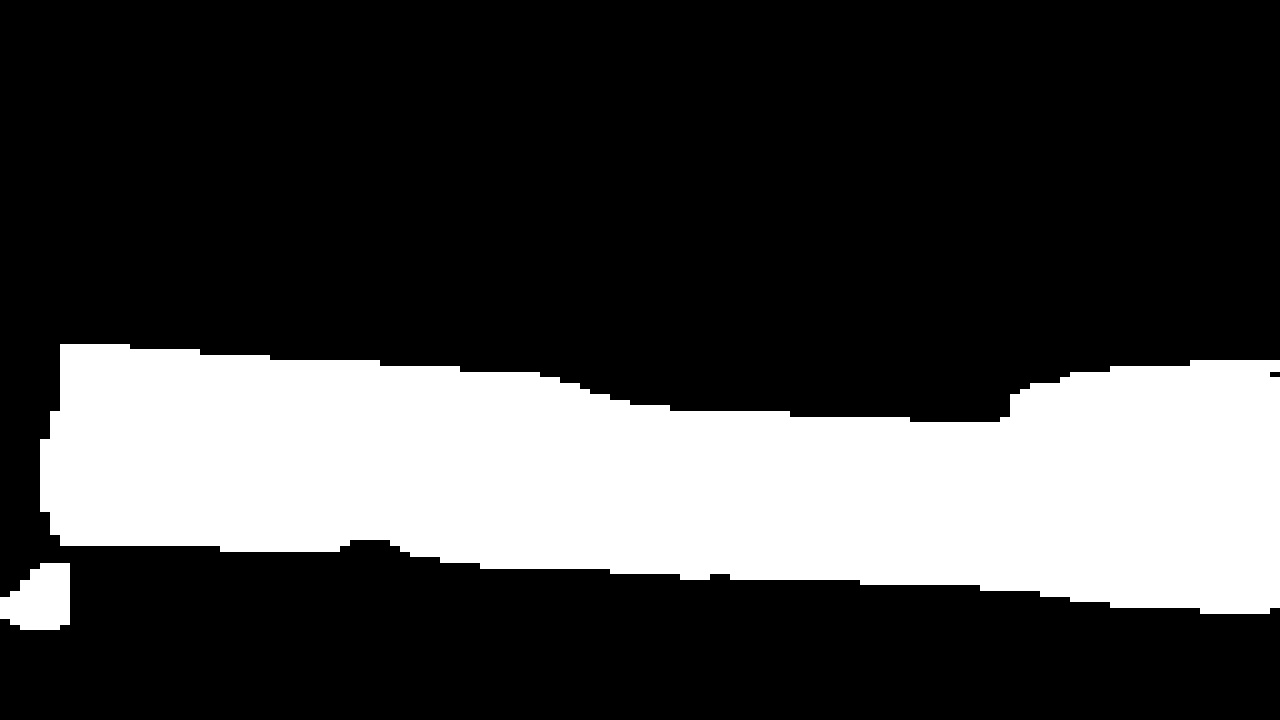Turbine: (37, 278, 1271, 635)
